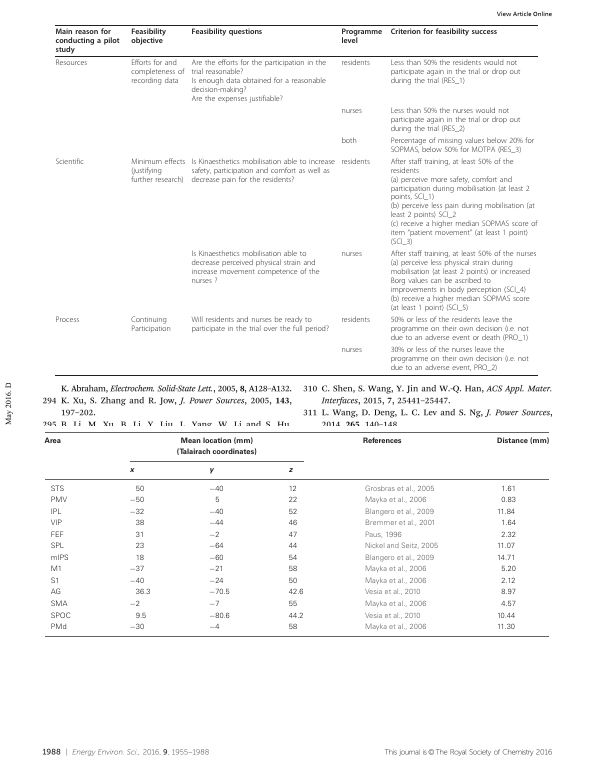borderless: (54, 23, 538, 375), (44, 431, 549, 636)
cell: (390, 157, 538, 247), (390, 249, 537, 313), (190, 58, 327, 103), (190, 249, 320, 286), (190, 157, 336, 184), (390, 315, 530, 343), (390, 345, 530, 373), (390, 58, 521, 86), (390, 106, 521, 133), (190, 315, 330, 334), (390, 136, 535, 154), (55, 27, 120, 54), (176, 437, 258, 457), (130, 58, 185, 86), (130, 157, 186, 184), (390, 27, 498, 36), (130, 315, 172, 334), (340, 27, 383, 45), (364, 542, 439, 551), (130, 27, 167, 45), (190, 27, 263, 36), (364, 520, 436, 529), (364, 485, 435, 494), (364, 508, 435, 517), (364, 554, 435, 563), (364, 577, 427, 586), (364, 600, 427, 609), (364, 623, 427, 632), (364, 589, 421, 598), (364, 612, 421, 621), (364, 497, 427, 505), (364, 566, 427, 574), (496, 437, 550, 445), (364, 531, 403, 540), (55, 58, 88, 68), (362, 437, 403, 445), (340, 58, 371, 68), (340, 315, 371, 325), (54, 157, 85, 166), (340, 157, 371, 166), (54, 315, 80, 325), (340, 249, 363, 259), (340, 345, 363, 355), (340, 106, 363, 115), (208, 589, 231, 598), (208, 612, 231, 621), (50, 612, 72, 621), (496, 508, 516, 517), (496, 542, 516, 551), (50, 554, 70, 563), (496, 554, 516, 563), (496, 612, 516, 621), (496, 623, 516, 632), (340, 136, 358, 145), (50, 600, 68, 609), (50, 623, 68, 632), (208, 485, 225, 494), (500, 485, 517, 494), (208, 508, 225, 517), (208, 520, 225, 529), (500, 520, 517, 529), (500, 531, 517, 540), (208, 542, 225, 551), (208, 554, 225, 563), (208, 566, 225, 575), (208, 577, 225, 586), (500, 589, 517, 598), (500, 600, 517, 609), (43, 437, 62, 445), (50, 497, 68, 505), (129, 508, 145, 517), (129, 566, 145, 575), (129, 577, 145, 586), (500, 577, 516, 586), (135, 589, 151, 598), (288, 589, 304, 598), (288, 612, 304, 621), (129, 623, 145, 632), (500, 497, 517, 505), (500, 566, 517, 574), (50, 485, 65, 494), (50, 531, 65, 540), (50, 542, 65, 551), (129, 497, 145, 505), (50, 508, 63, 517), (50, 520, 63, 529), (50, 566, 63, 575), (208, 531, 220, 540), (50, 589, 62, 598), (129, 600, 141, 609), (208, 600, 220, 609), (135, 612, 147, 621), (208, 623, 220, 632), (135, 485, 145, 494), (288, 485, 298, 494), (288, 508, 298, 517), (135, 520, 145, 529), (288, 520, 298, 529), (135, 531, 145, 540), (288, 531, 298, 540), (135, 542, 145, 551), (288, 542, 298, 551), (135, 554, 145, 563), (288, 554, 298, 563), (288, 566, 298, 575), (50, 577, 60, 586), (288, 577, 298, 586), (288, 600, 298, 609), (288, 623, 298, 632), (288, 497, 298, 505), (214, 497, 220, 505), (129, 468, 135, 475), (208, 468, 214, 475), (288, 468, 293, 475)
